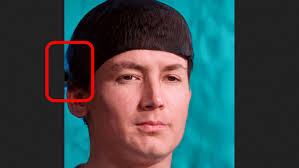No-Glasses: (105, 63, 189, 92)
